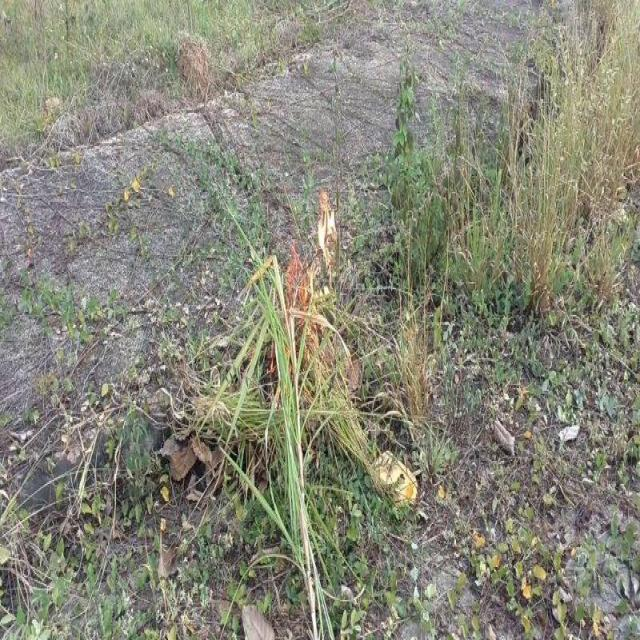Fire: (310, 187, 344, 275)
